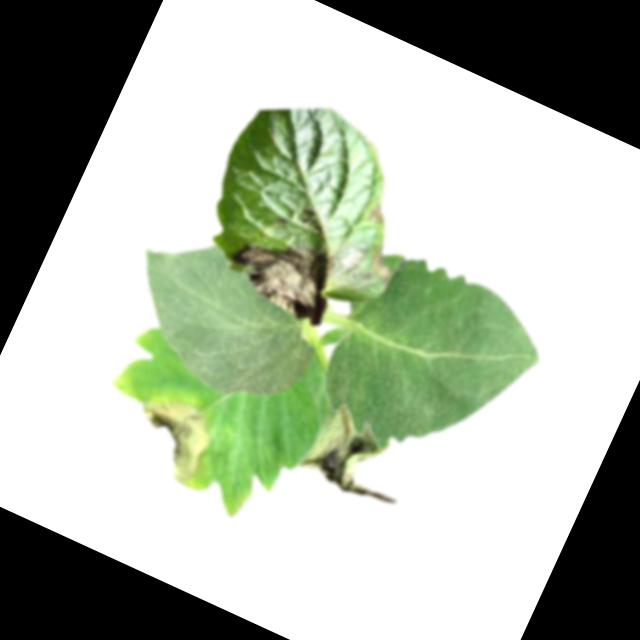Late_blight: (217, 213, 352, 329), (295, 399, 424, 518), (120, 381, 232, 494), (363, 245, 403, 290), (367, 207, 391, 232)
healthy: (299, 236, 559, 494), (103, 216, 341, 422)
